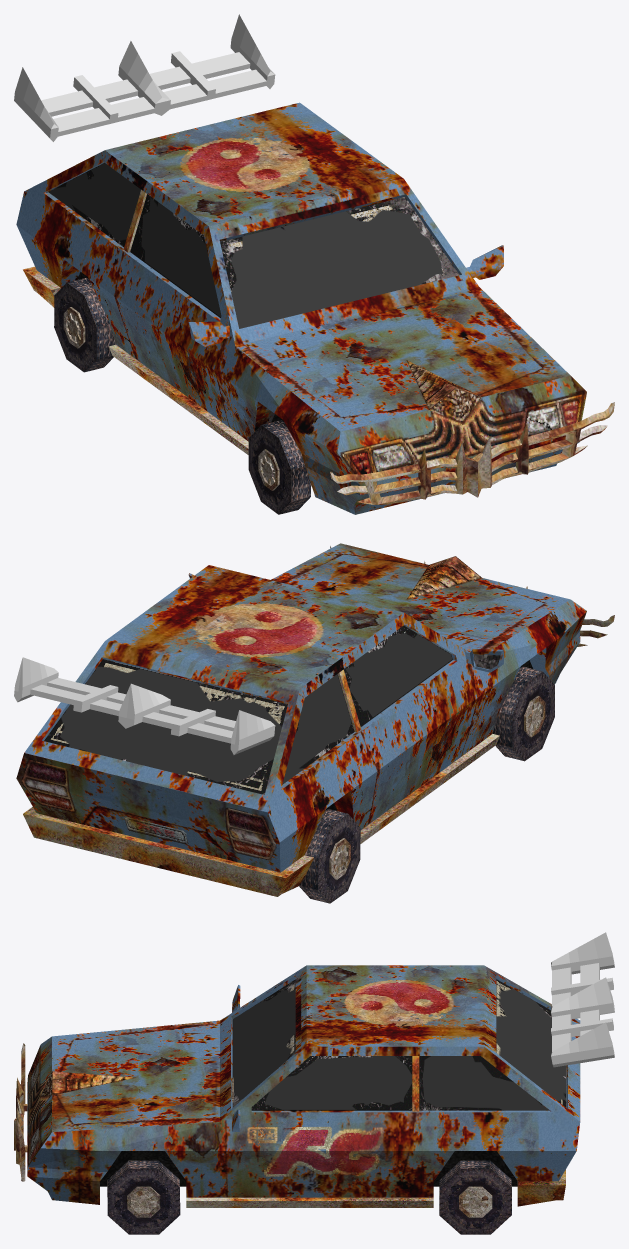
The model's file is SAMARA001.fbx.
The picture shows the model from 3 angles, top to bottom: view 1: azimuth 30°, elevation 25°; view 2: azimuth 150°, elevation 25°; view 3: azimuth 270°, elevation 25°; orthographic projection. The views are drawn at different scales.
Parts seen in each view (by area): view 1: carroceria, vidrio, aleron, ruedas, Plano, bronce; view 2: carroceria, vidrio, bronce, ruedas, aleron; view 3: carroceria, vidrio, ruedas, aleron, bronce, fondo rueda, Plano.
Boxes of the visible parts, x1=… form: carroceria: x1=16, y1=102, x2=586, y2=514; vidrio: x1=48, y1=163, x2=459, y2=328; aleron: x1=14, y1=14, x2=275, y2=141; ruedas: x1=54, y1=277, x2=311, y2=514; Plano: x1=330, y1=402, x2=614, y2=504; bronce: x1=23, y1=189, x2=481, y2=454; carroceria: x1=16, y1=543, x2=586, y2=872; vidrio: x1=44, y1=625, x2=500, y2=794; bronce: x1=23, y1=556, x2=499, y2=896; ruedas: x1=299, y1=666, x2=554, y2=903; aleron: x1=14, y1=657, x2=275, y2=754; carroceria: x1=27, y1=965, x2=580, y2=1204; vidrio: x1=232, y1=979, x2=565, y2=1110; ruedas: x1=107, y1=1160, x2=511, y2=1234; aleron: x1=551, y1=932, x2=614, y2=1067; bronce: x1=41, y1=1056, x2=565, y2=1207; fondo rueda: x1=100, y1=1151, x2=517, y2=1186; Plano: x1=14, y1=1043, x2=27, y2=1181.
Size of the model in its own units: 645 by 466 by 1251.
Materials: 9 (9 with a texture image).
